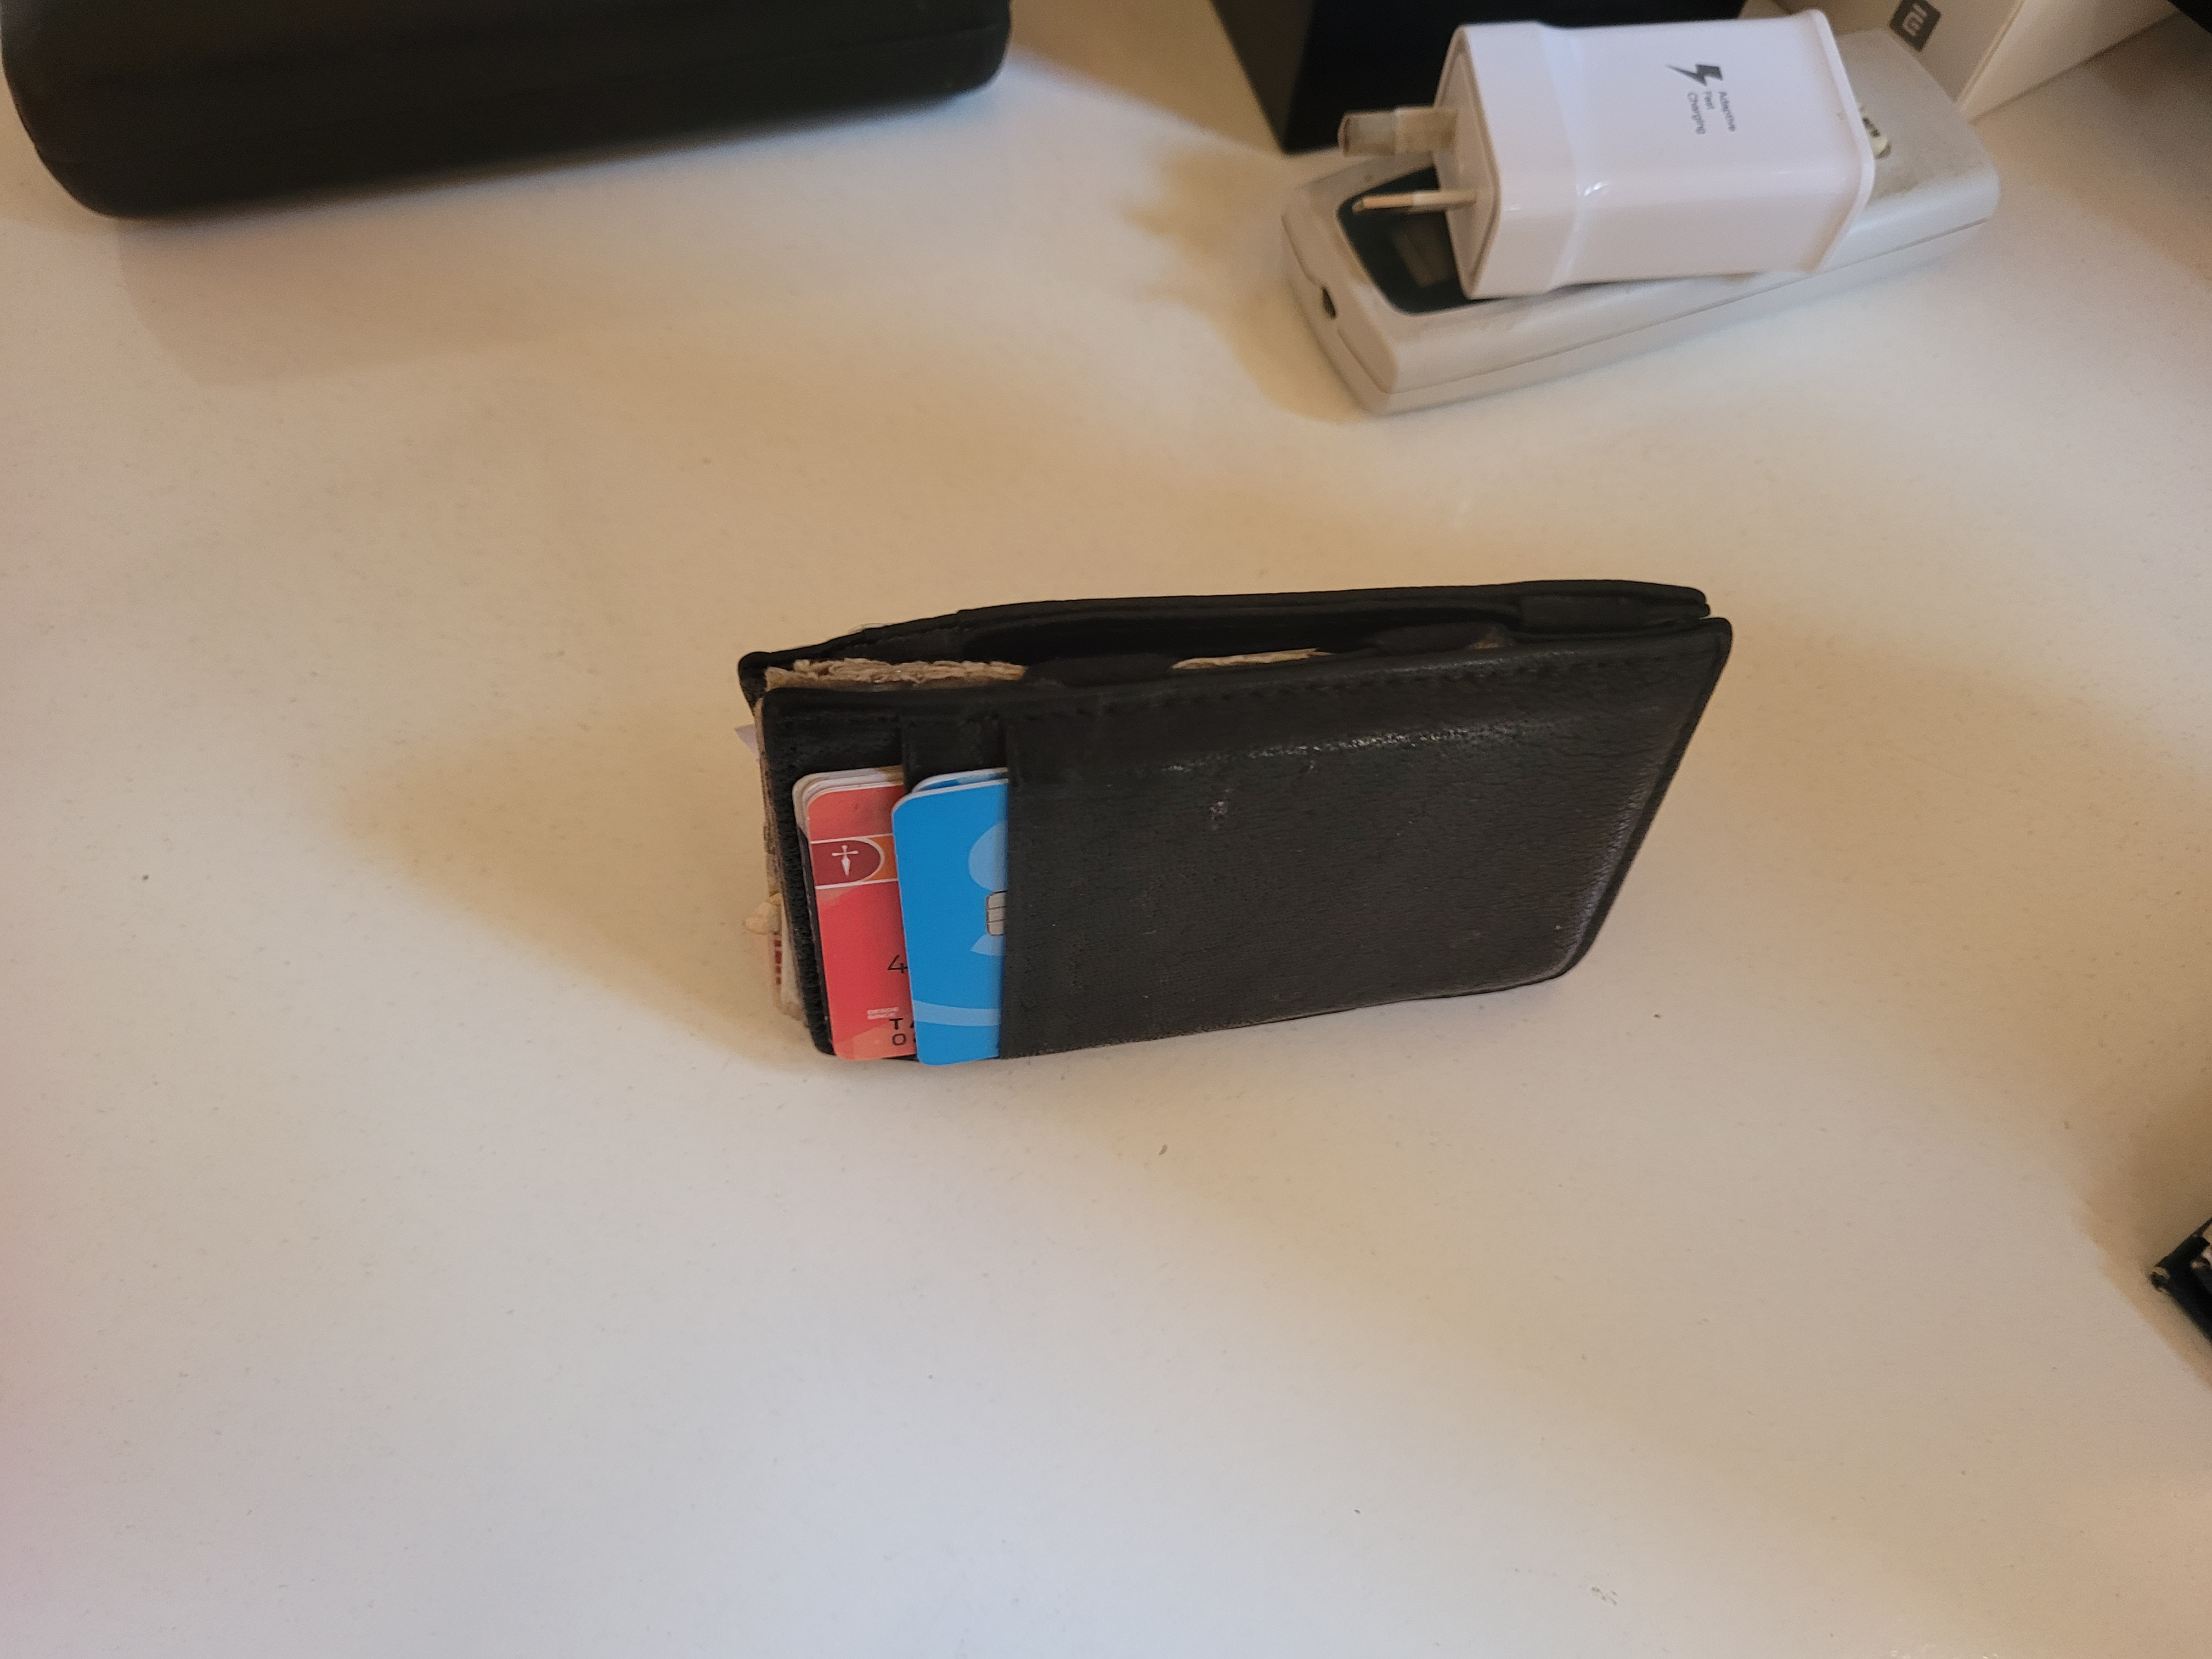billetera: (733, 572, 1743, 1079)
